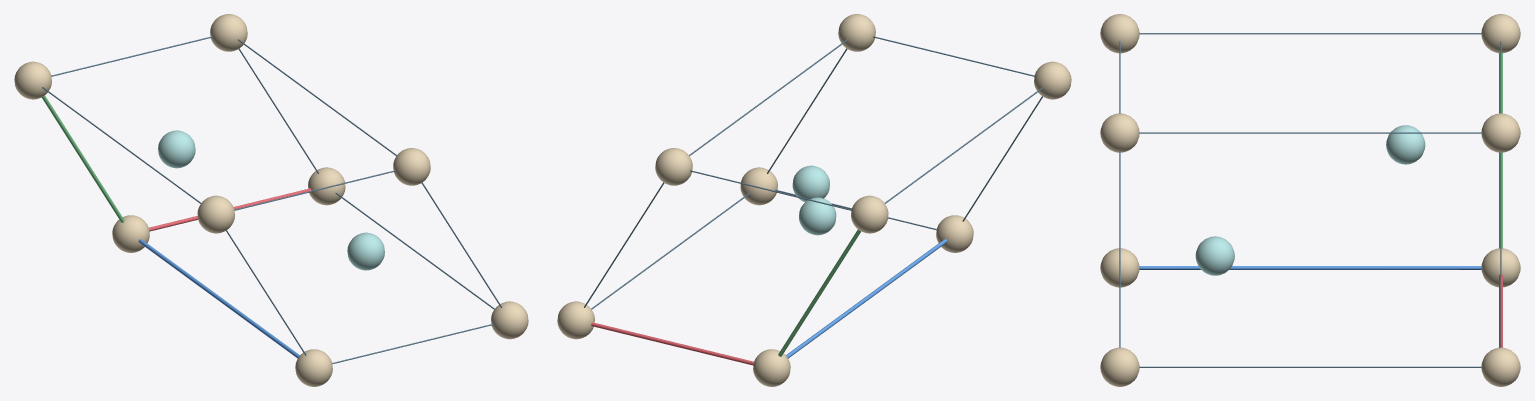
The model's file is chat-manganese-bromide.glb.
3 renders of one model, left to right at view 1: azimuth 30°, elevation 25°; view 2: azimuth 150°, elevation 25°; view 3: azimuth 270°, elevation 25°, orthographic. The views are drawn at different scales.
Parts seen in each view (by area): view 1: Mn · Mn · 1 (×8), Ô mạng và các trục a, b, c, Br · Br · 1 (×2); view 2: Mn · Mn · 1 (×8), Ô mạng và các trục a, b, c, Br · Br · 1 (×2); view 3: Mn · Mn · 1 (×8), Ô mạng và các trục a, b, c, Br · Br · 1 (×2).
Boxes of the visible parts, x1,y1,x2,y2 form: Mn · Mn · 1 (×8): (14, 14, 528, 386); Ô mạng và các trục a, b, c: (41, 36, 501, 364); Br · Br · 1 (×2): (158, 130, 384, 270); Mn · Mn · 1 (×8): (557, 14, 1071, 386); Ô mạng và các trục a, b, c: (584, 36, 1043, 365); Br · Br · 1 (×2): (792, 165, 836, 235); Mn · Mn · 1 (×8): (1100, 14, 1520, 386); Ô mạng và các trục a, b, c: (1119, 33, 1502, 367); Br · Br · 1 (×2): (1195, 125, 1425, 275).
Size of the model in its own units: 6.37 by 3.95 by 6.83.
